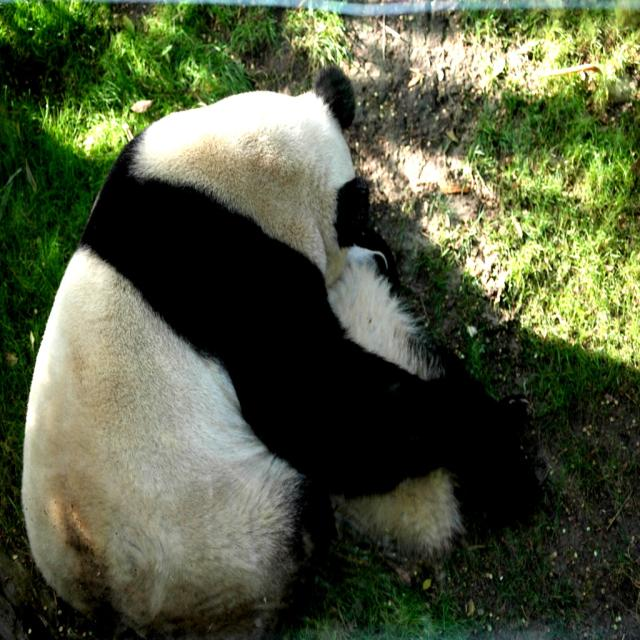panda: (23, 64, 534, 640), (313, 225, 528, 561)
